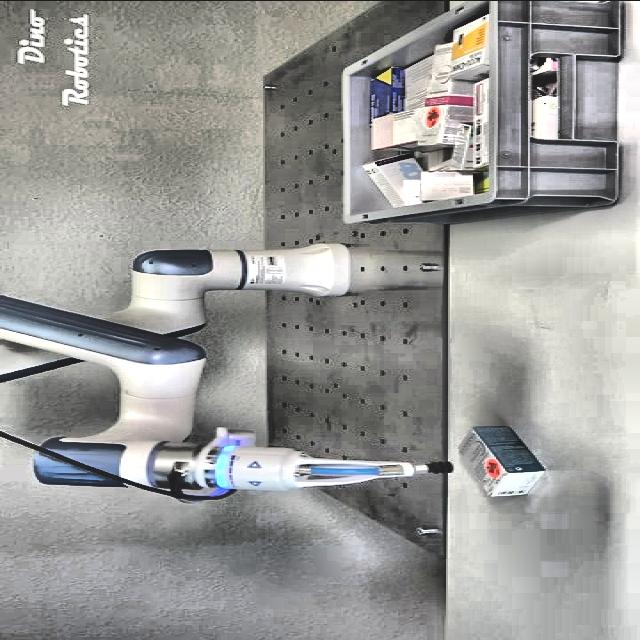robot: (0, 242, 452, 503)
